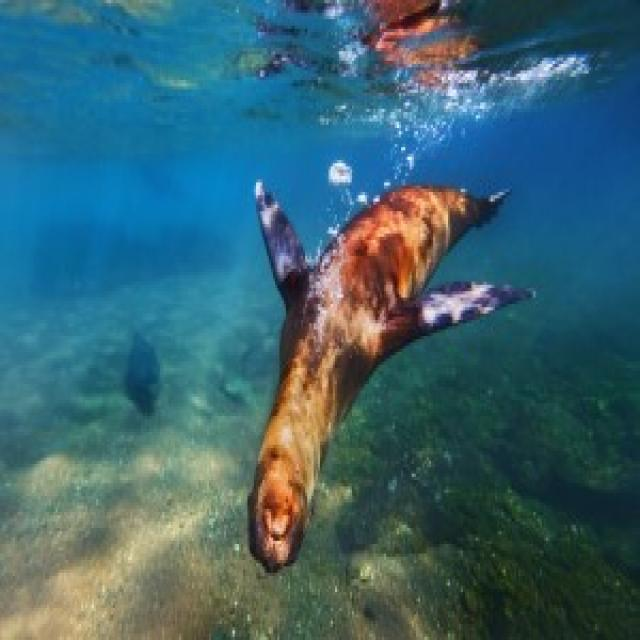Seal: (231, 176, 540, 576)
